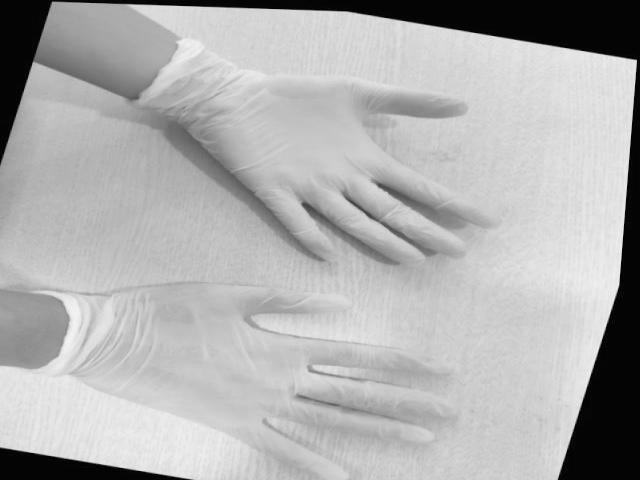gloved: (118, 283, 454, 480), (200, 72, 494, 262)
